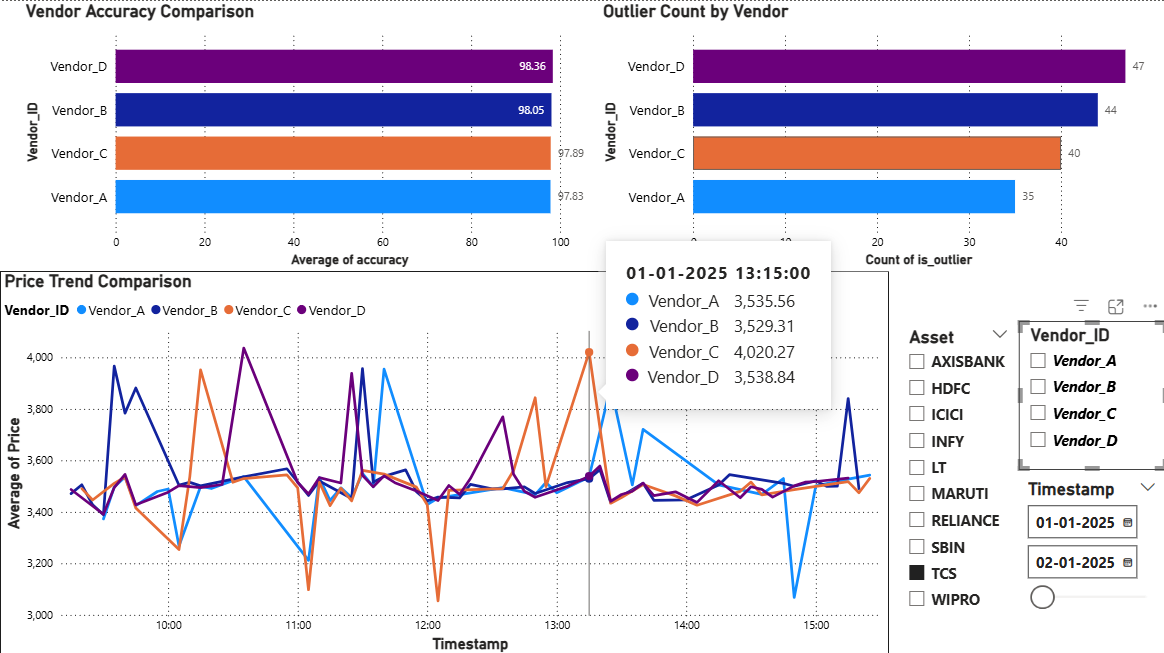

Layout of this report page (visuals, bound fields, positions):
{"tool":"powerbi","page":{"name":"Page 1","canvas":[1280,720],"ordinal":0},"visuals":[{"type":"clusteredBarChart","title":"Vendor Accuracy Comparison","fields":{"Category":["processed_prices.Vendor_ID"],"Y":["Avg(processed_prices.accuracy)"]},"box":[23.3,0,633.3,296.7],"z":0},{"type":"lineChart","title":"Price Trend Comparison","fields":{"Series":["processed_prices.Vendor_ID"],"Category":["processed_prices.Timestamp"],"Y":["Avg(processed_prices.Price)"]},"box":[0,296.7,975,423.3],"z":1000},{"type":"clusteredBarChart","title":"Outlier Count by Vendor","fields":{"Category":["processed_prices.Vendor_ID"],"Y":["CountNonNull(processed_prices.is_outlier)"]},"box":[656.7,0,611.7,296.7],"z":2000},{"type":"slicer","fields":{"Values":["processed_prices.Asset"]},"box":[985,353.3,133.3,335],"z":3000},{"type":"slicer","fields":{"Values":["processed_prices.Vendor_ID"]},"box":[1118.3,351.7,161.7,163.3],"z":4000},{"type":"slicer","fields":{"Values":["processed_prices.Timestamp"]},"box":[1115,520,165,178.3],"z":5000}]}

Visuals, with their boxes in screenshot pixels (x1, y1, x2, y2), scaled from the page's 1280x720 canvas onto the 1164x653 screenshot:
"Vendor Accuracy Comparison" clusteredBarChart: rect(21, 0, 597, 269)
"Price Trend Comparison" lineChart: rect(0, 269, 887, 652)
"Outlier Count by Vendor" clusteredBarChart: rect(597, 0, 1153, 269)
slicer - processed_prices.Asset: rect(896, 320, 1017, 624)
slicer - processed_prices.Vendor_ID: rect(1017, 319, 1163, 467)
slicer - processed_prices.Timestamp: rect(1014, 472, 1163, 633)
